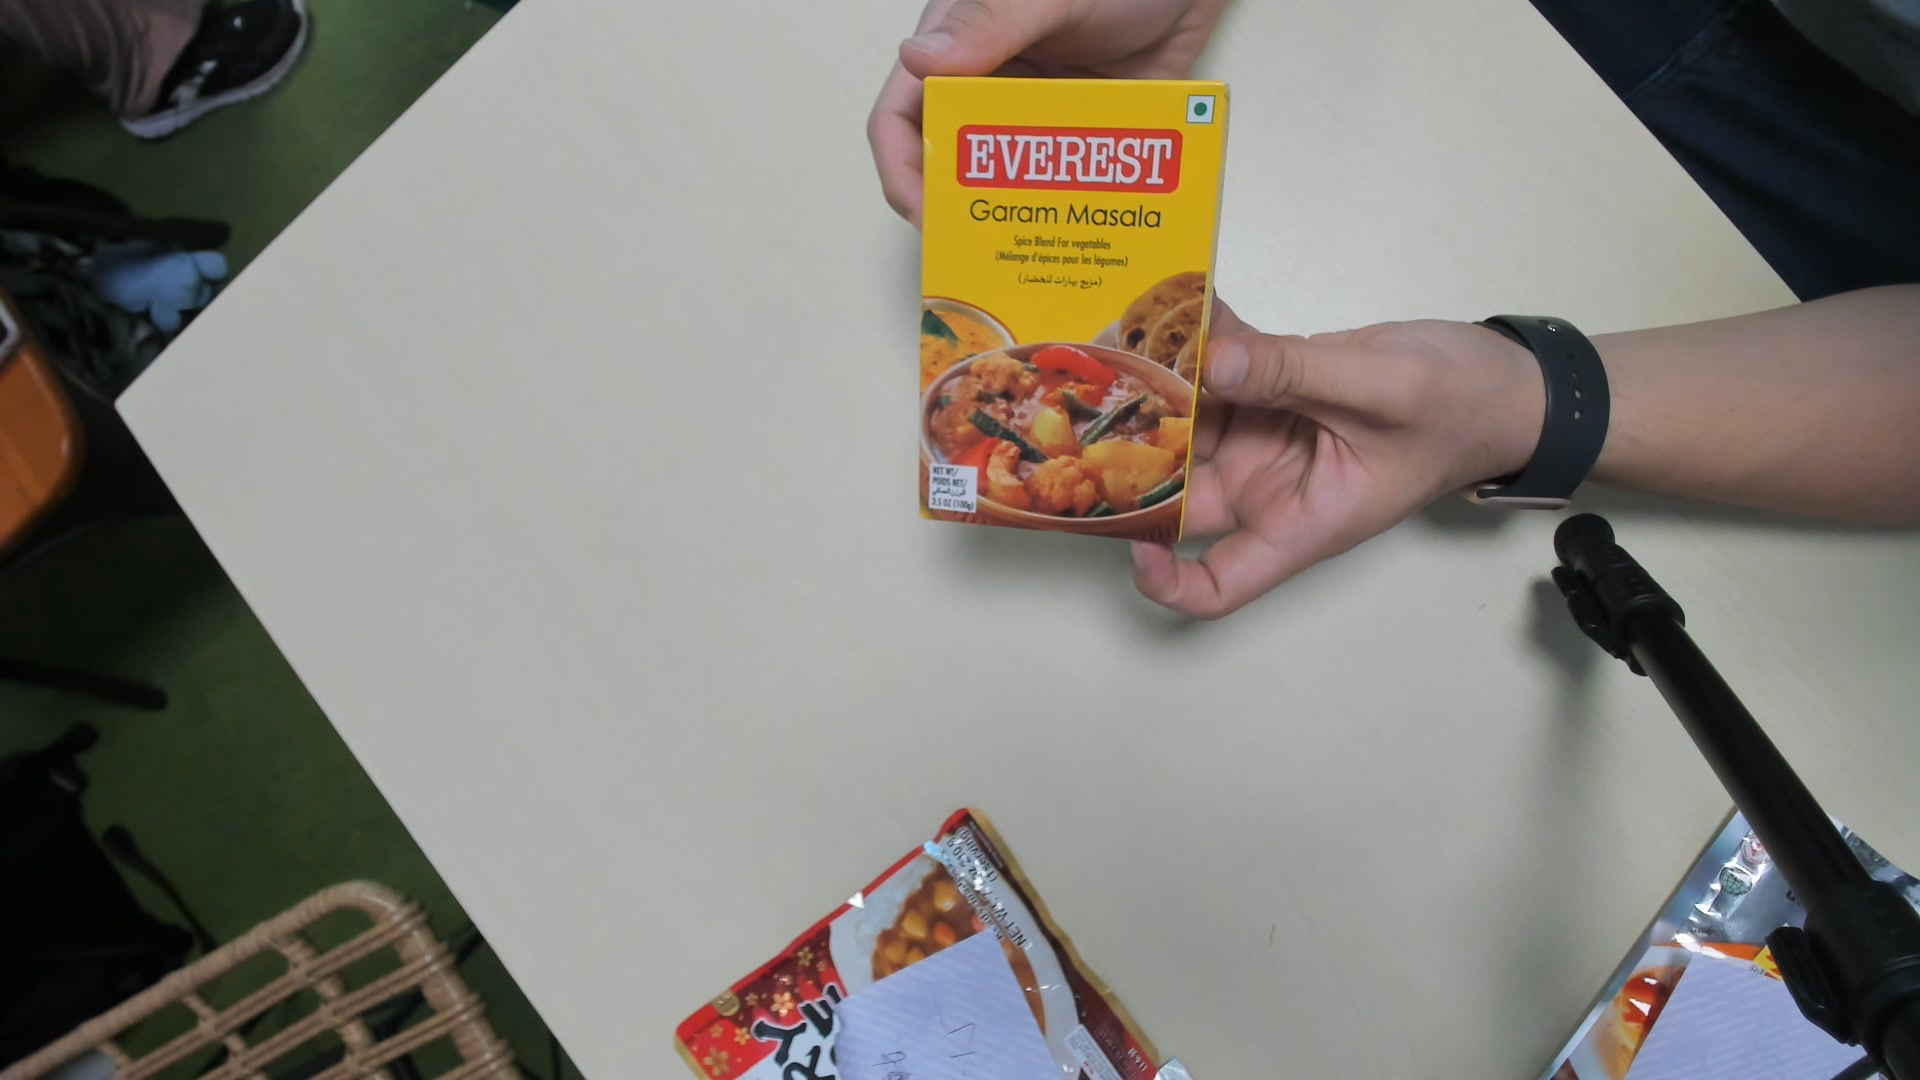CurryPastePowderSauce_100-199g_NonHalal_NonHealthy: (919, 80, 1228, 547)
